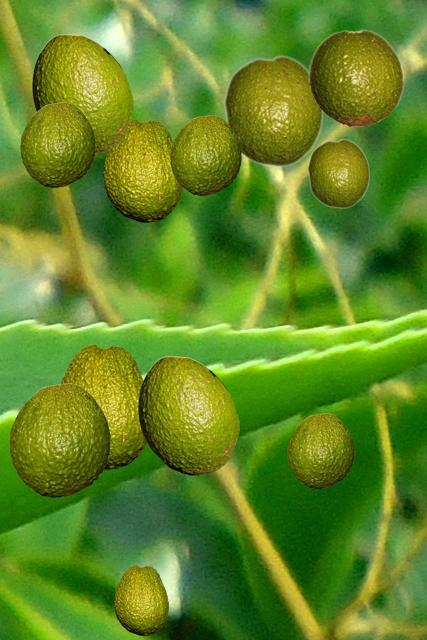avocado: (32, 34, 132, 152), (138, 356, 238, 474), (223, 54, 323, 167), (9, 383, 109, 496), (60, 344, 146, 468), (308, 29, 404, 126), (103, 119, 182, 221), (20, 102, 94, 186), (170, 115, 240, 194), (287, 413, 353, 487), (307, 138, 369, 208), (114, 565, 167, 634)
